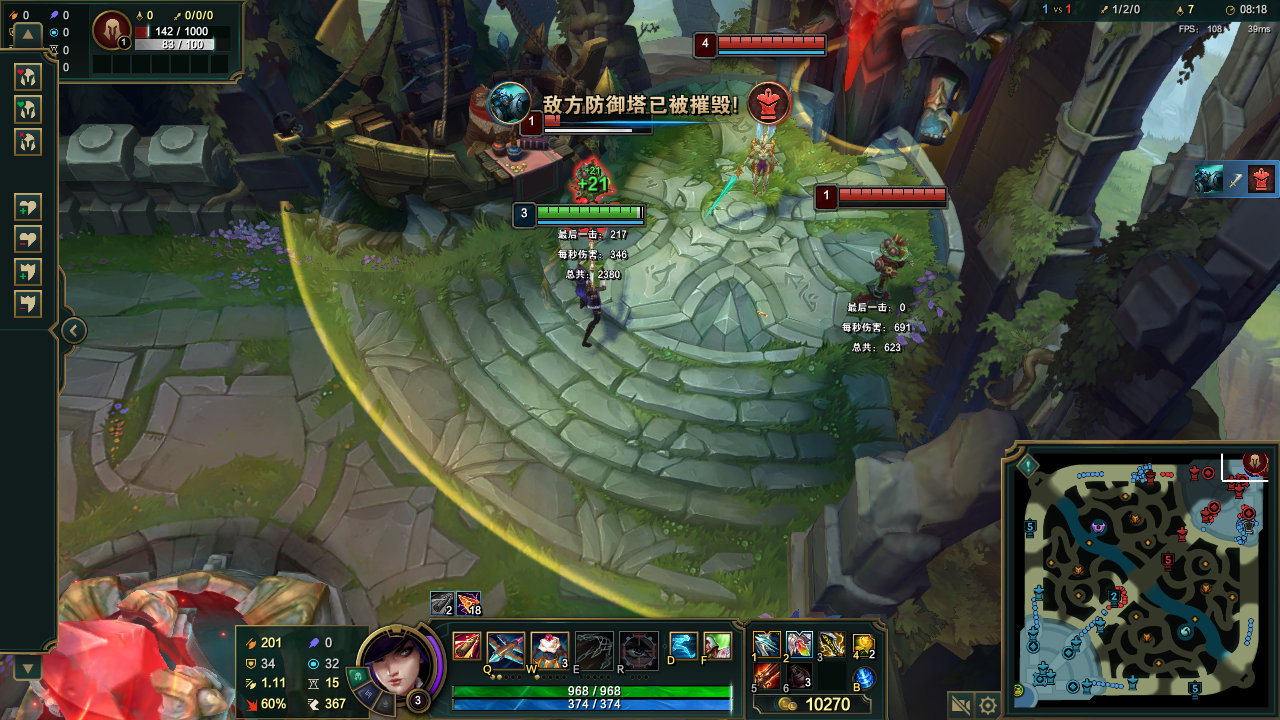DFYX: (837, 188, 952, 199), (720, 35, 826, 45)
